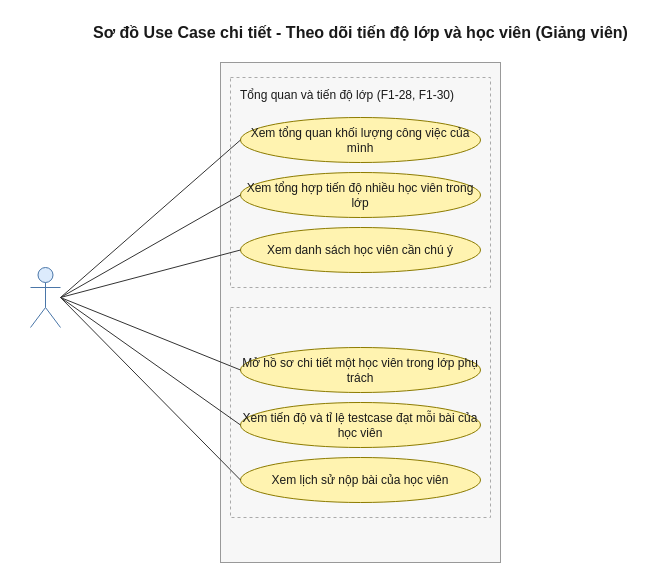
This 645x580 diagram has some shape labels left out. The box of each missing label's shape, as (x1, y1, x2, y2) in pixels:
Giảng viên: (30, 266, 60, 328)
Hồ sơ chi tiết học viên (F1-27): (230, 306, 490, 518)
Theo dõi tiến độ lớp: (220, 62, 500, 562)
